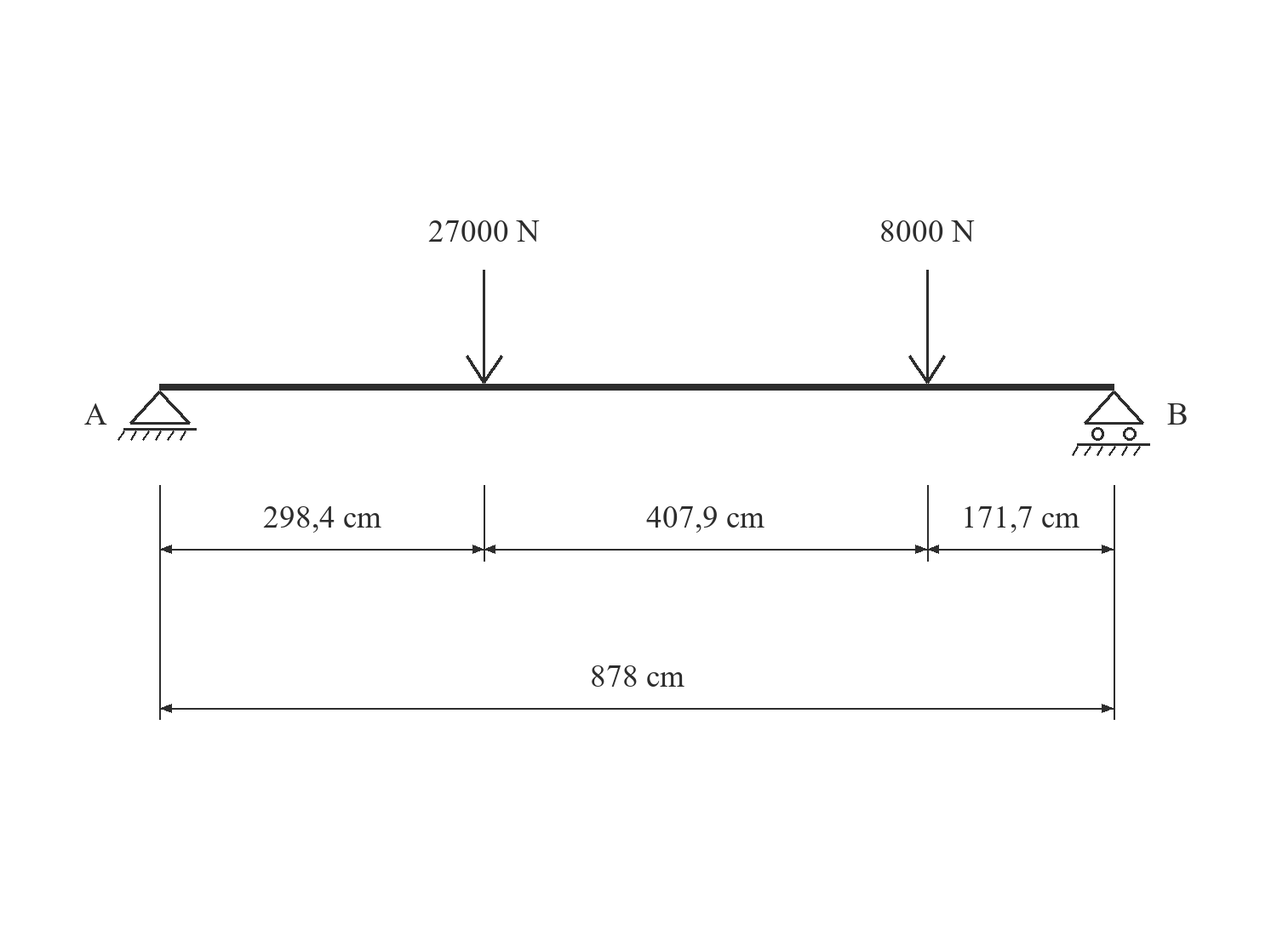pin_support: (117, 391, 197, 441)
point_load: (908, 270, 946, 384), (466, 270, 503, 384)
roller_support: (1072, 391, 1150, 456)
